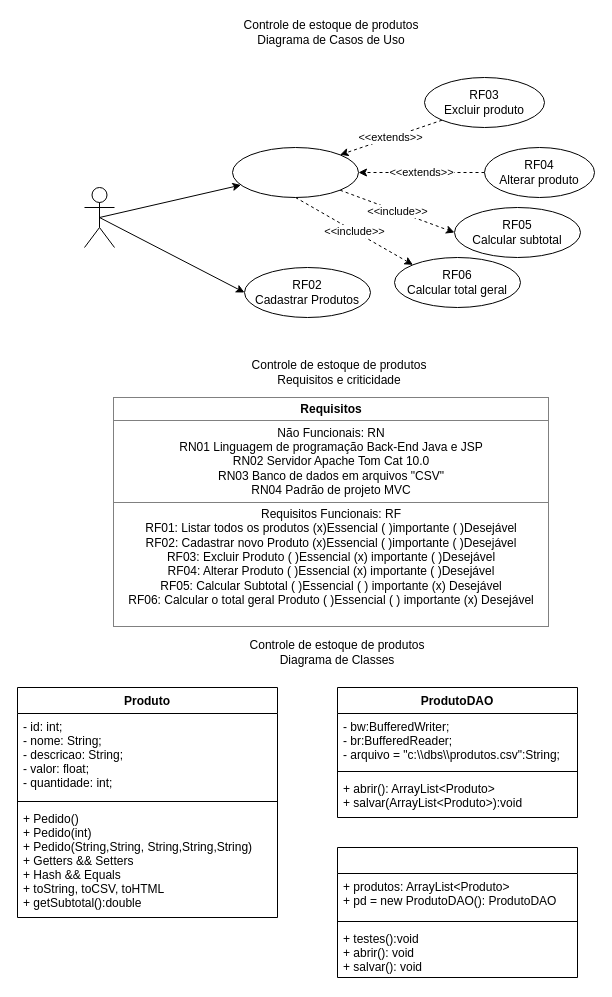
This 612x997 diagram has some shape labels left out. The box of each missing label's shape, as (x1, y1, x2, y2) in pixels:
Estoquista: (84, 186, 114, 248)
ProdutoProcess: (336, 846, 578, 978)
RF01 Listar Todos: (232, 146, 358, 198)
